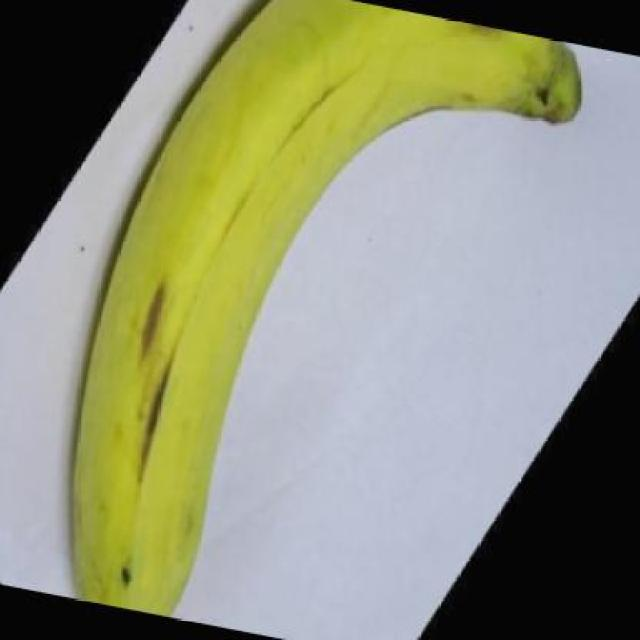ripe: (28, 0, 584, 627)
